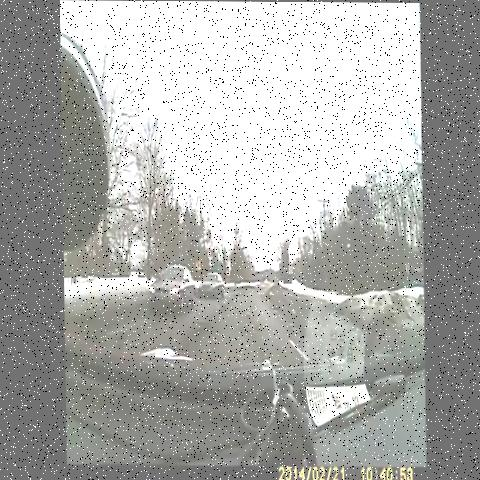pothole: (237, 316, 273, 350), (183, 312, 217, 347), (237, 293, 262, 326)
